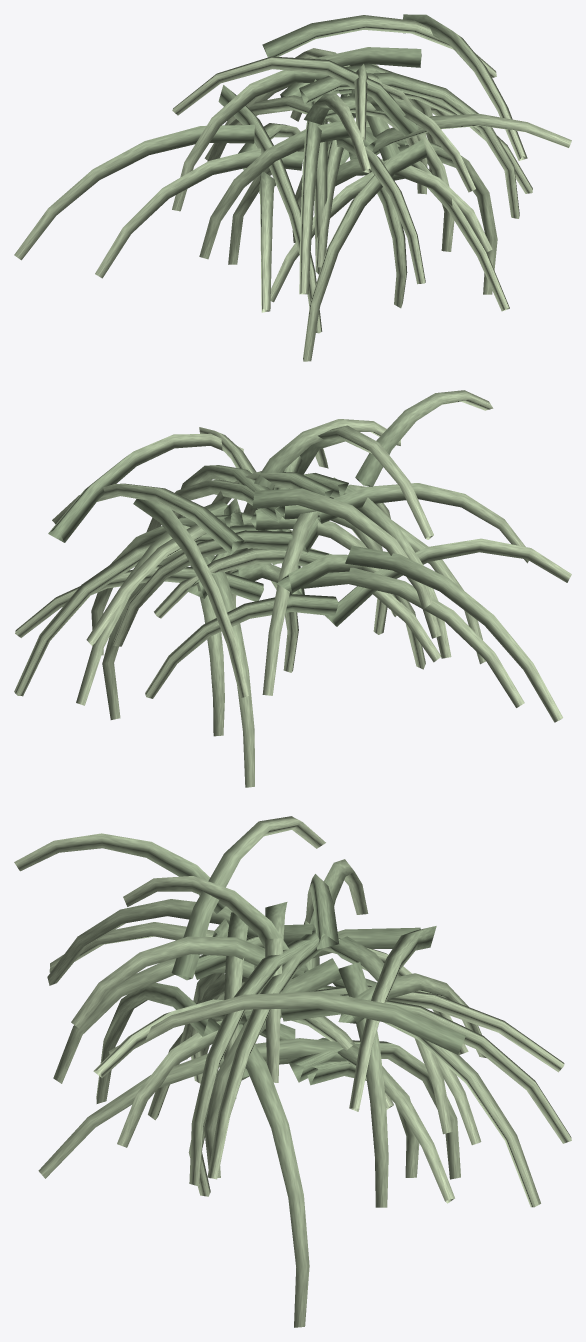
Rendered from beardlichenitem.glb.
3 renders of one model, top to bottom at view 1: azimuth 30°, elevation 25°; view 2: azimuth 150°, elevation 25°; view 3: azimuth 270°, elevation 25°, orthographic. The views are drawn at different scales.
Parts seen in each view (by area): view 1: beardlichenitem; view 2: beardlichenitem; view 3: beardlichenitem.
Part boxes in pixels (bbox=[...]): beardlichenitem: bbox=[14, 14, 571, 361]; beardlichenitem: bbox=[14, 390, 571, 787]; beardlichenitem: bbox=[14, 816, 571, 1327].
Bounding box in the file's own units: 0.1521 × 0.0916 × 0.1261.
Materials: 1 (1 with a texture image).
